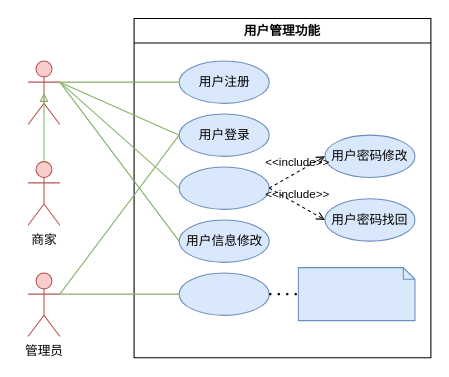
Image size: 449x377. Some labels were removed from this diagram. The centre of each missing label's shape, as x and y in pixels:
"普通用户" belongs at pixel 43 92.
"普通用户/商家账号" belongs at pixel 356 294.
"用户密码管理" belongs at pixel 223 187.
"用户类型修改" belongs at pixel 223 293.
